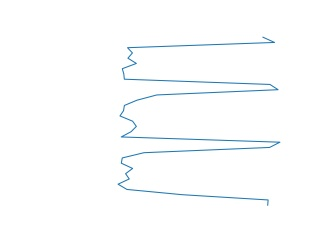majorRiverChannelBar: (116, 38, 282, 206)
